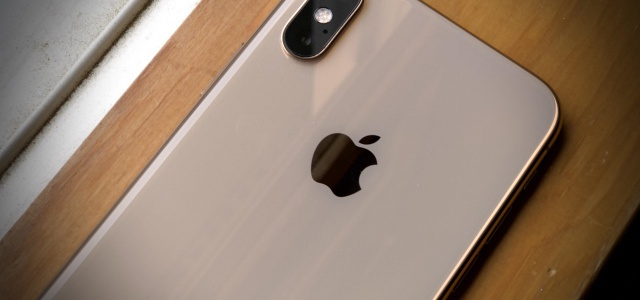apple: (296, 115, 402, 207)
